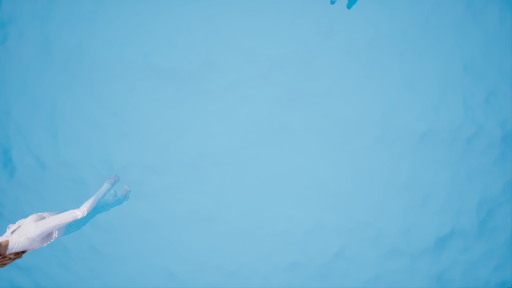person: (3, 178, 139, 270)
